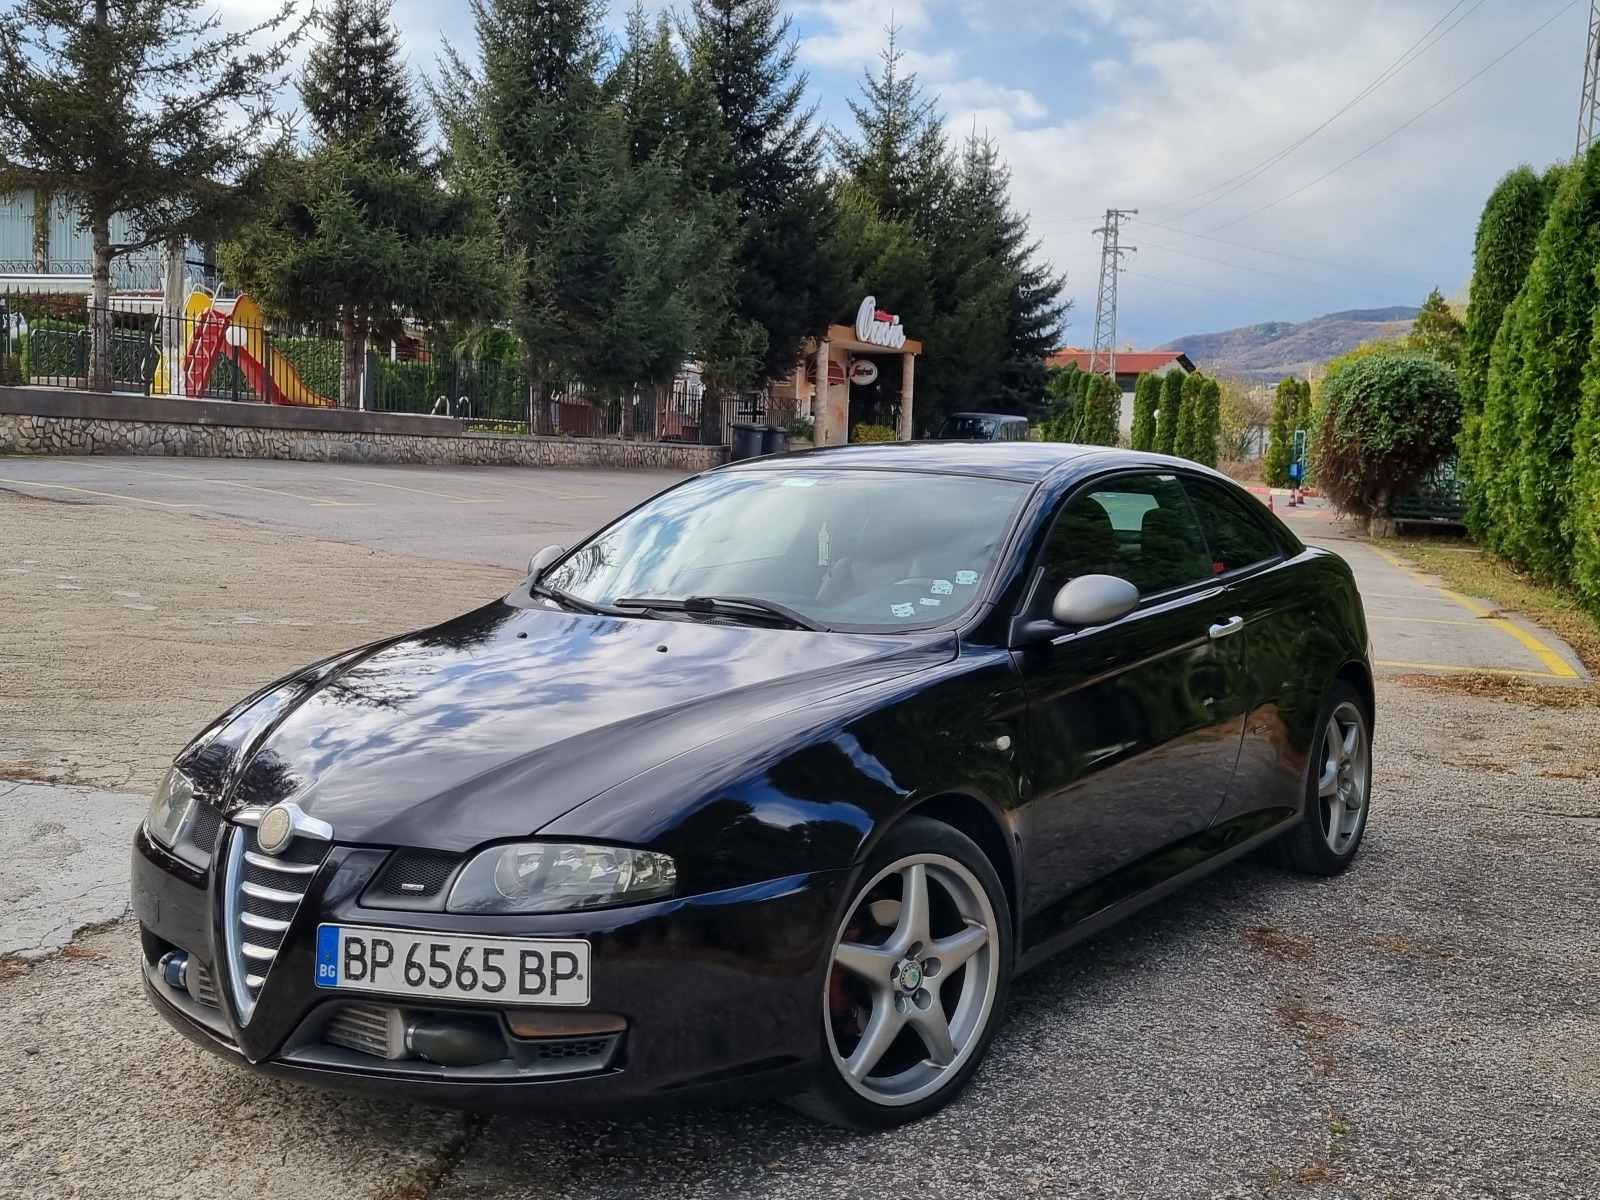registration_plate: (320, 924, 600, 1012)
